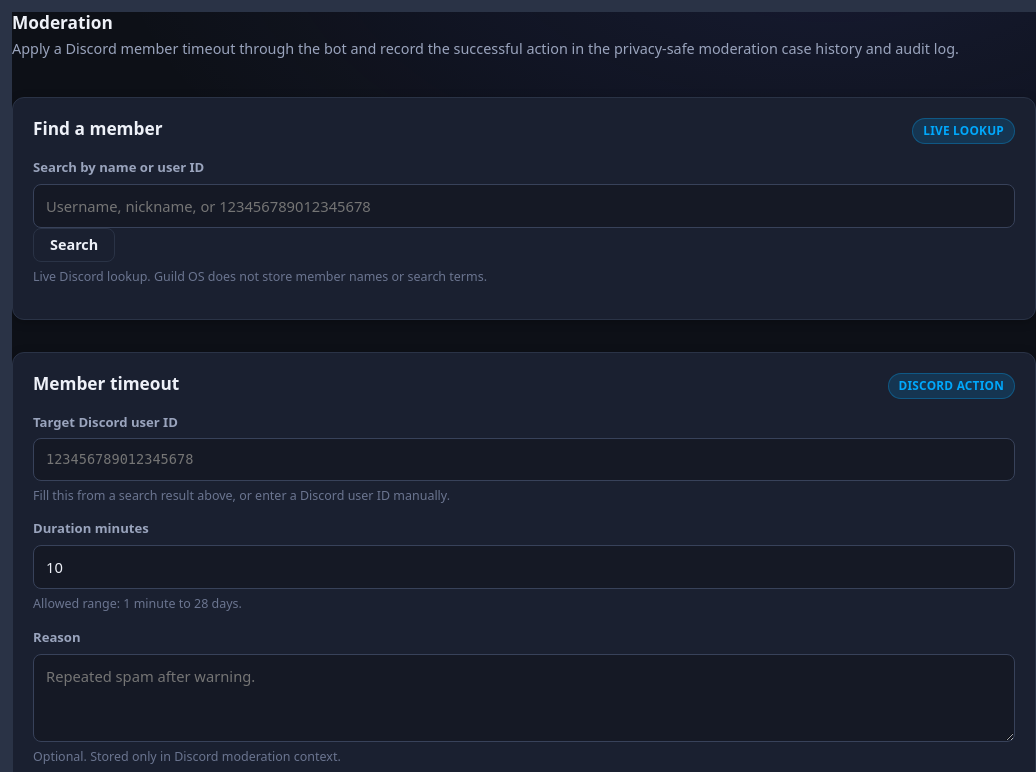
ModerationTab › shows an empty state when no member matches
The image size is (1036, 772).
Step 1. Type "ghost" into the field labelled "Search by name or user ID" → (524, 206), box [33, 184, 1015, 228]
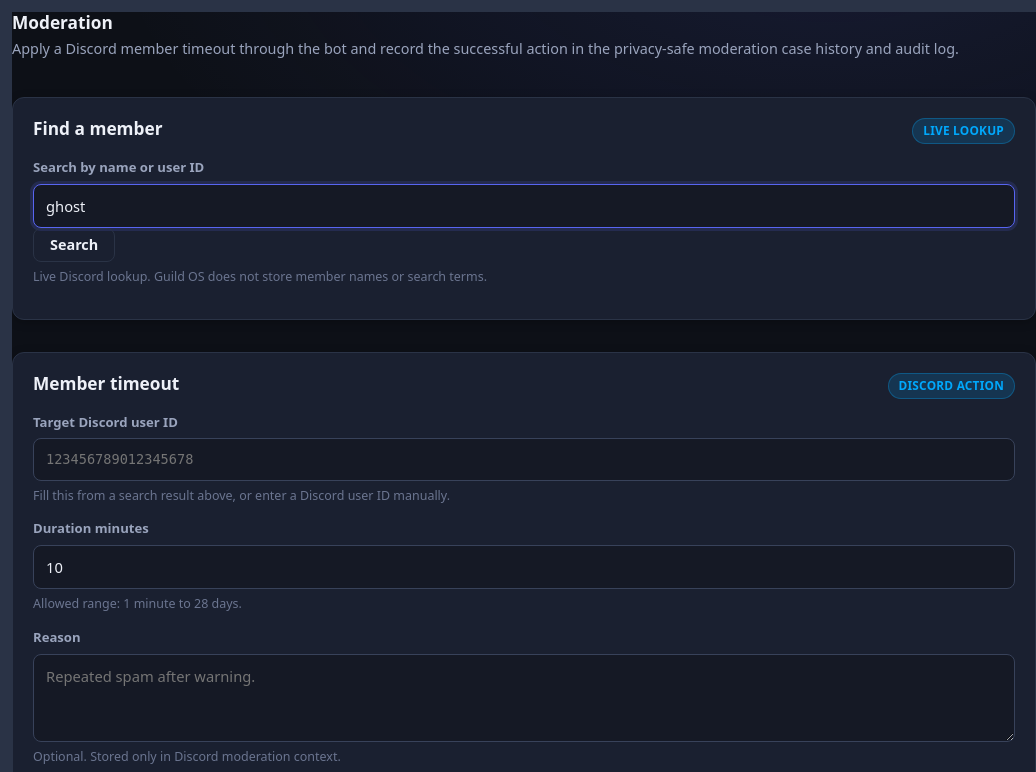
Step 2. Click the button "Search" → (74, 245), box [33, 228, 115, 262]
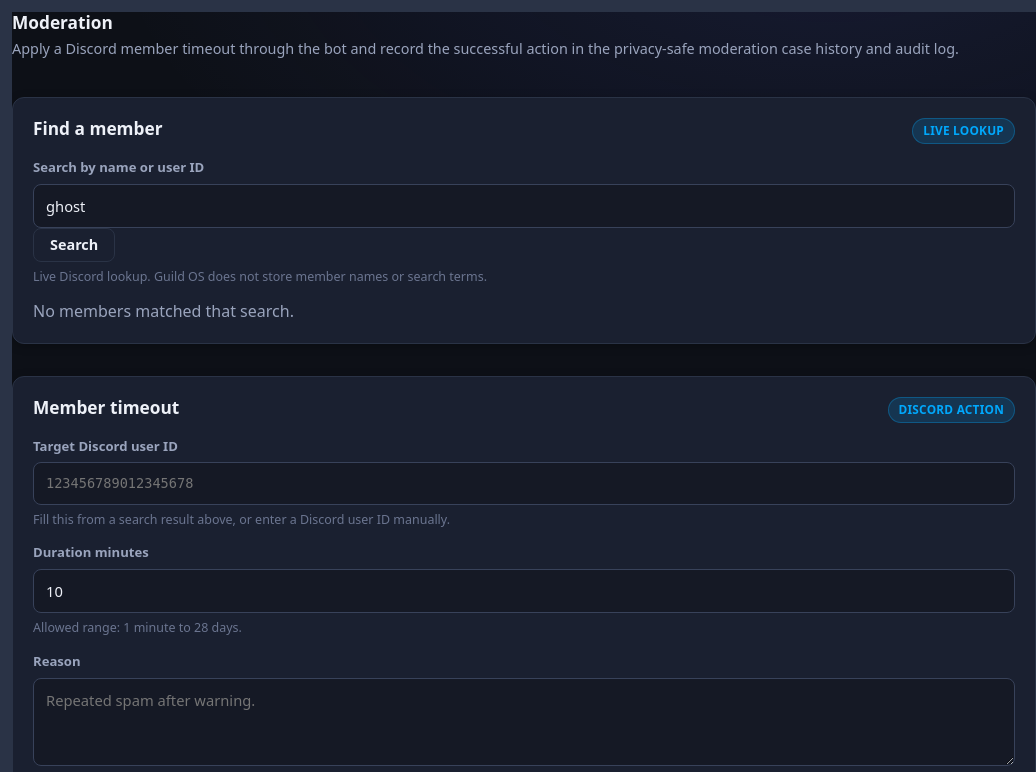
Now the text "No members matched that search." is shown, box [33, 300, 294, 322]
